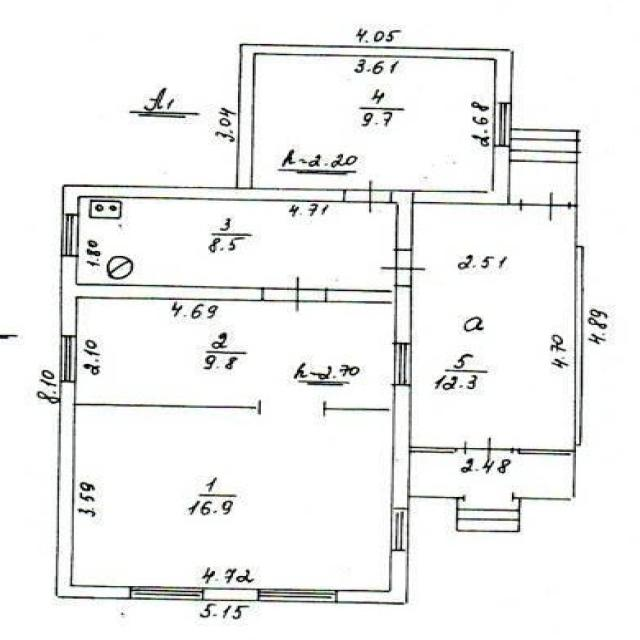Corridors: (411, 203, 575, 449), (409, 453, 571, 497)
Doors: (261, 276, 326, 315), (510, 192, 572, 224), (457, 434, 519, 464), (381, 248, 428, 287), (344, 178, 391, 214), (257, 399, 327, 417), (462, 492, 515, 503)
LBwalls: (236, 43, 515, 188), (56, 382, 131, 601), (59, 257, 263, 337), (388, 145, 511, 250), (61, 185, 346, 215), (336, 552, 409, 606), (392, 386, 409, 509), (326, 289, 395, 303), (395, 286, 411, 342), (203, 587, 257, 602)
Offices: (72, 406, 392, 591), (76, 300, 395, 408), (253, 55, 493, 190), (77, 198, 396, 289)
Stairs: (511, 128, 579, 202), (456, 499, 521, 533)
Walls: (514, 450, 578, 501), (573, 205, 585, 449), (74, 402, 260, 411), (409, 494, 464, 501), (325, 406, 394, 411), (519, 449, 574, 455), (410, 446, 457, 453)
Windows: (257, 588, 336, 603), (130, 586, 203, 601), (59, 335, 77, 383), (493, 102, 512, 146), (393, 342, 411, 386), (391, 508, 408, 552), (61, 214, 78, 257)
